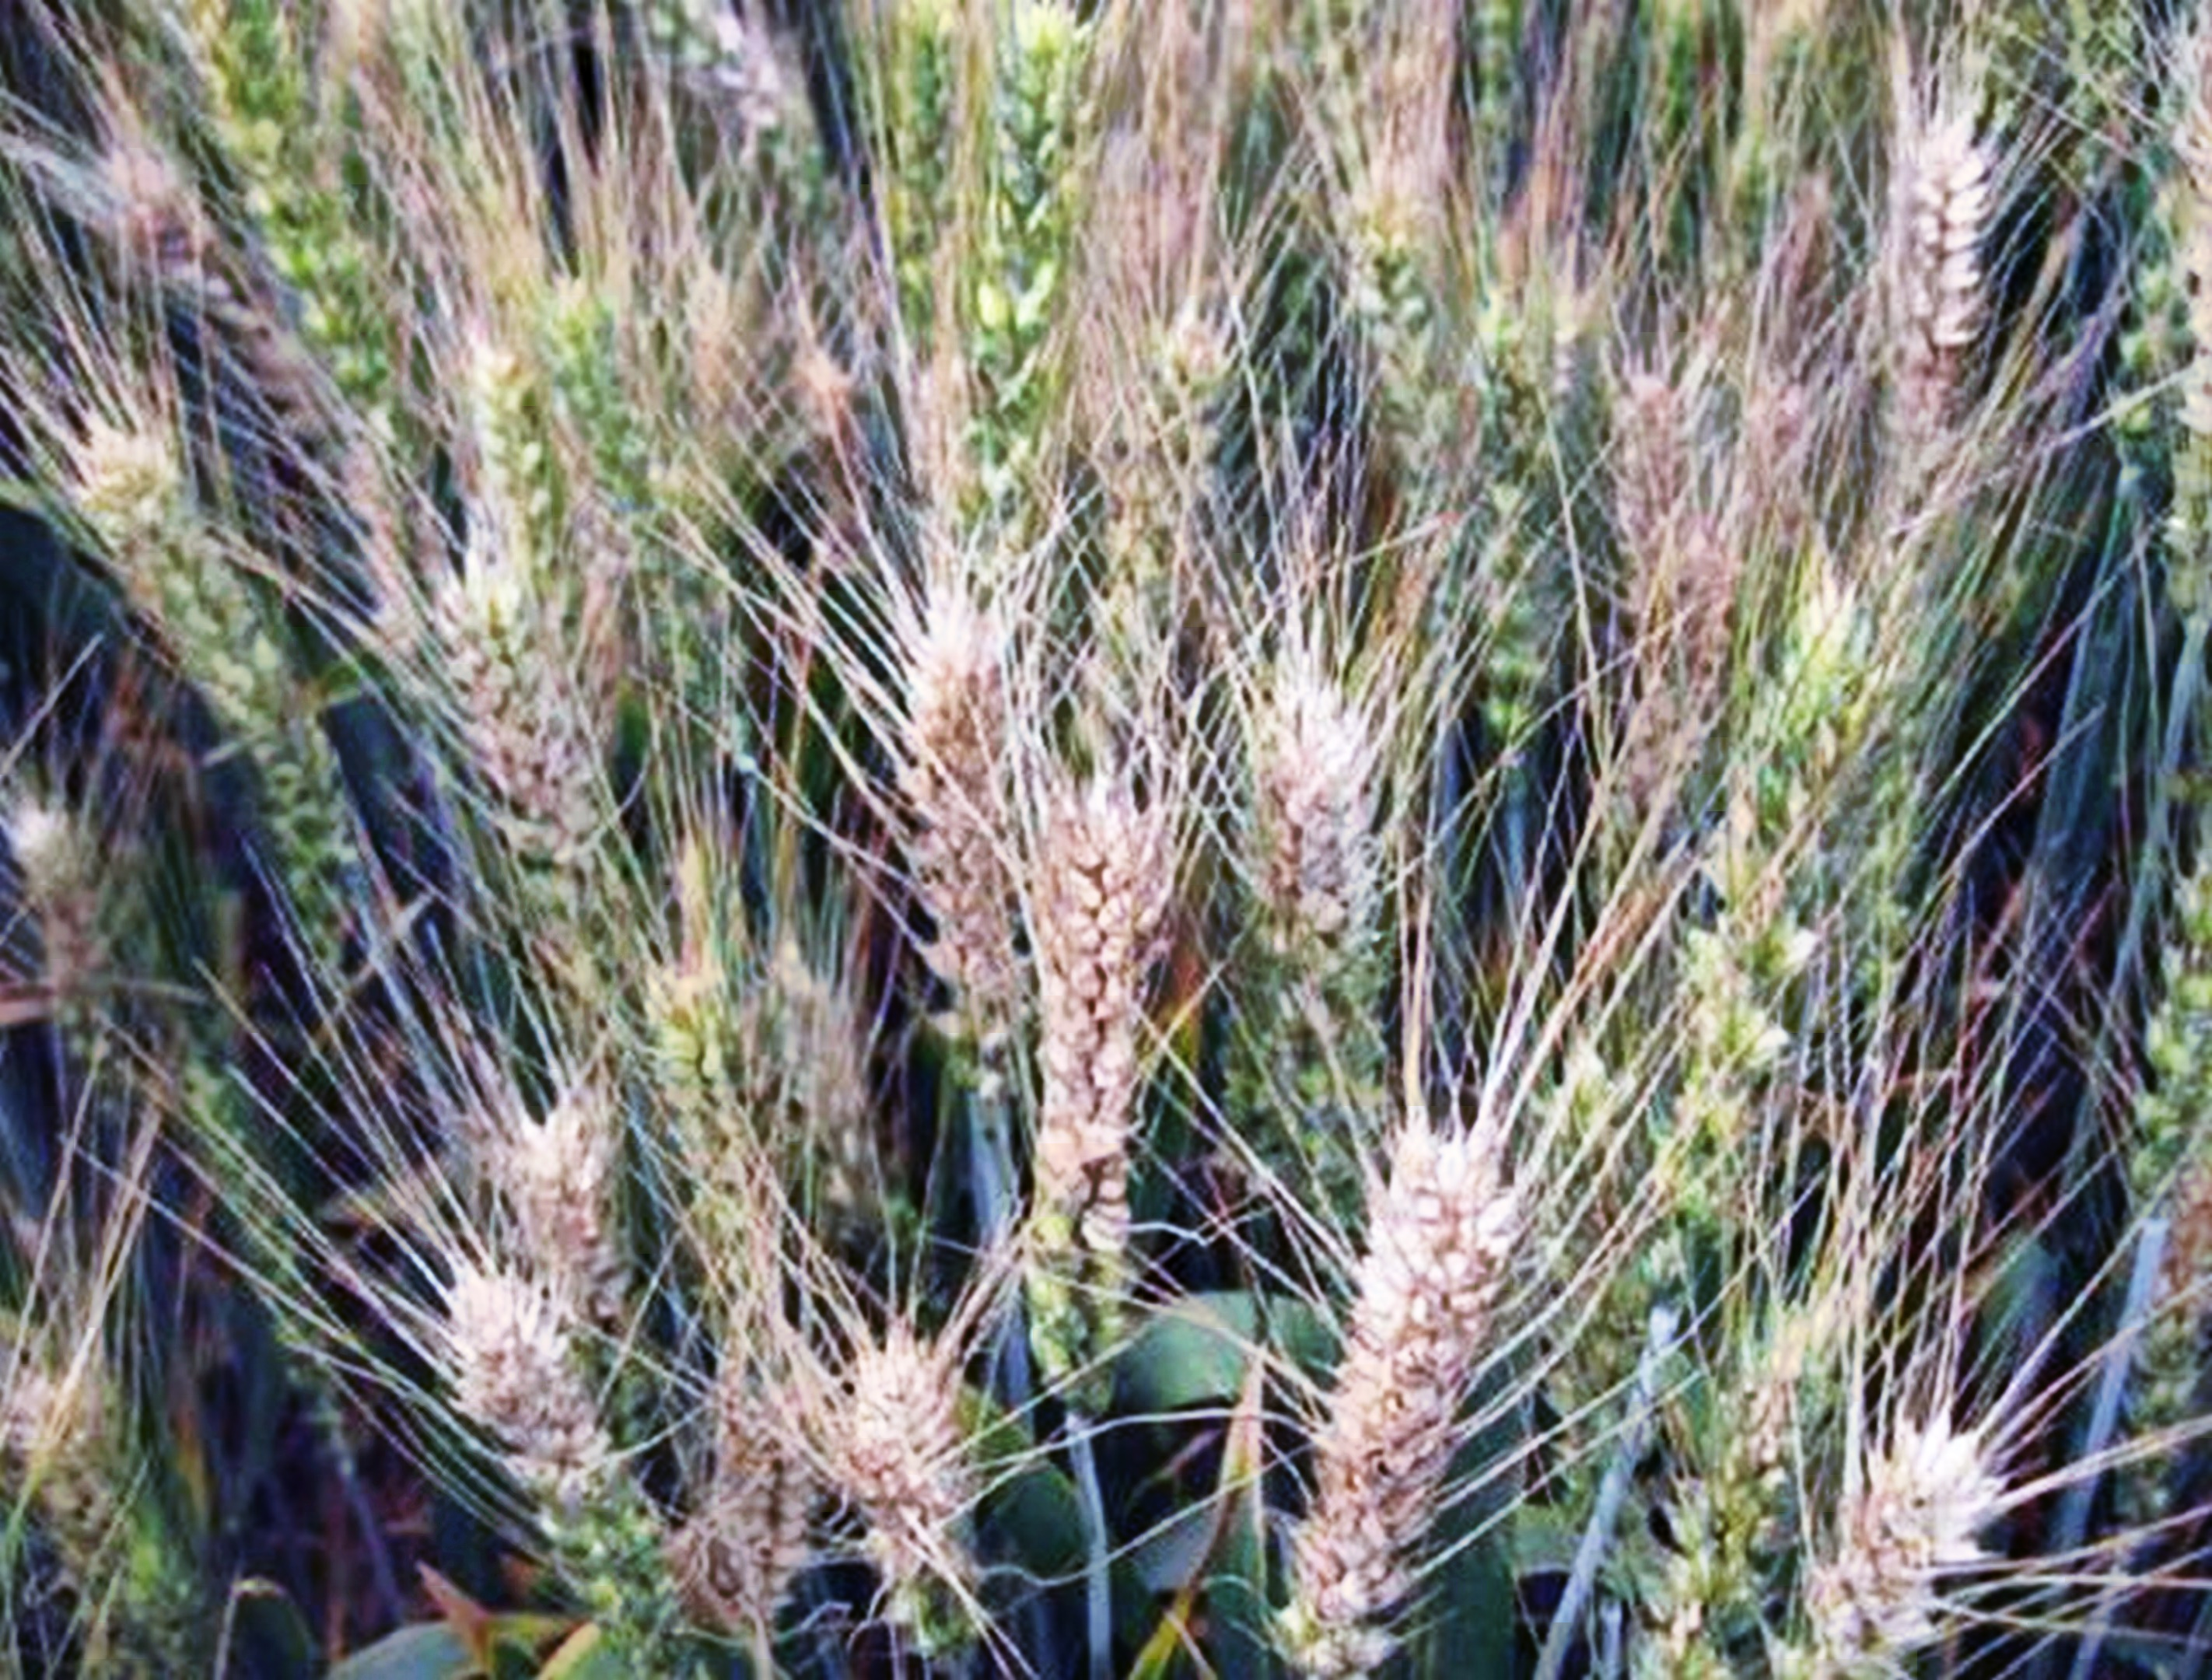Wheat scab: (1265, 1140, 1540, 1675), (997, 794, 1166, 1401)
